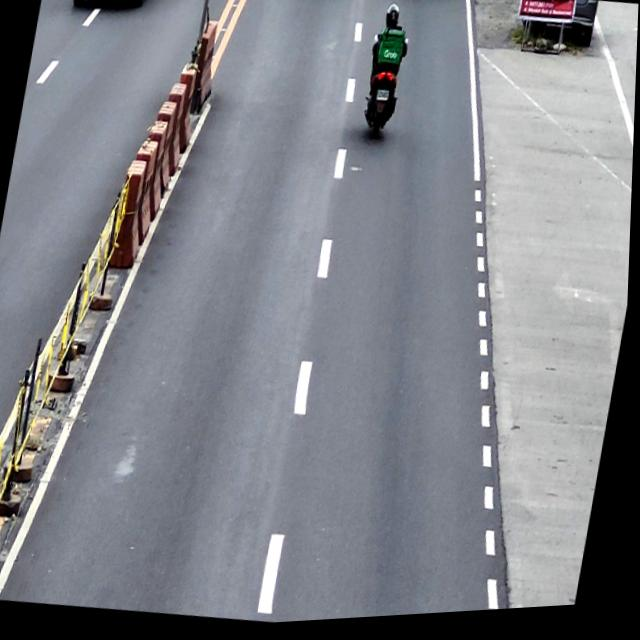License-Plate: (376, 93, 391, 108)
Motorcycle: (356, 34, 410, 149)
